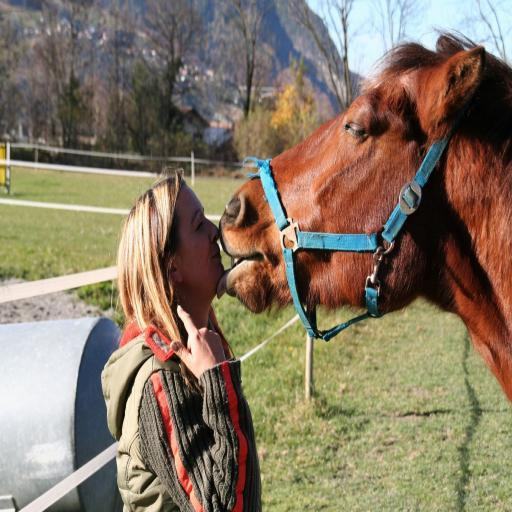Horse: (214, 25, 512, 403)
